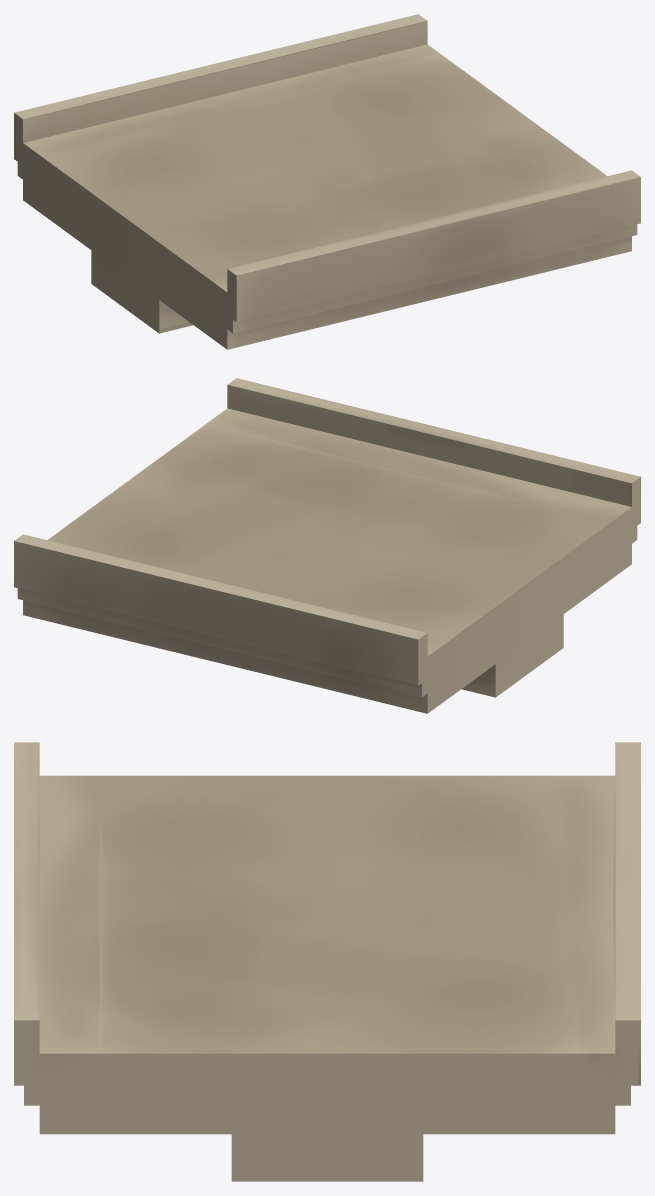
The model's file is bridge_path_0.fbx.
3 views of the same model, one above another, from view 1: azimuth 30°, elevation 25°; view 2: azimuth 150°, elevation 25°; view 3: azimuth 270°, elevation 25° (orthographic). The views are drawn at different scales.
Visible parts, largest first — view 1: bridge_path_0; view 2: bridge_path_0; view 3: bridge_path_0.
Part boxes in pixels (<box>): bridge_path_0: <box>14,14,640,349</box>; bridge_path_0: <box>14,378,640,713</box>; bridge_path_0: <box>14,742,640,1181</box>.
Bounding box in the file's own units: 345 × 93.27 × 328.
